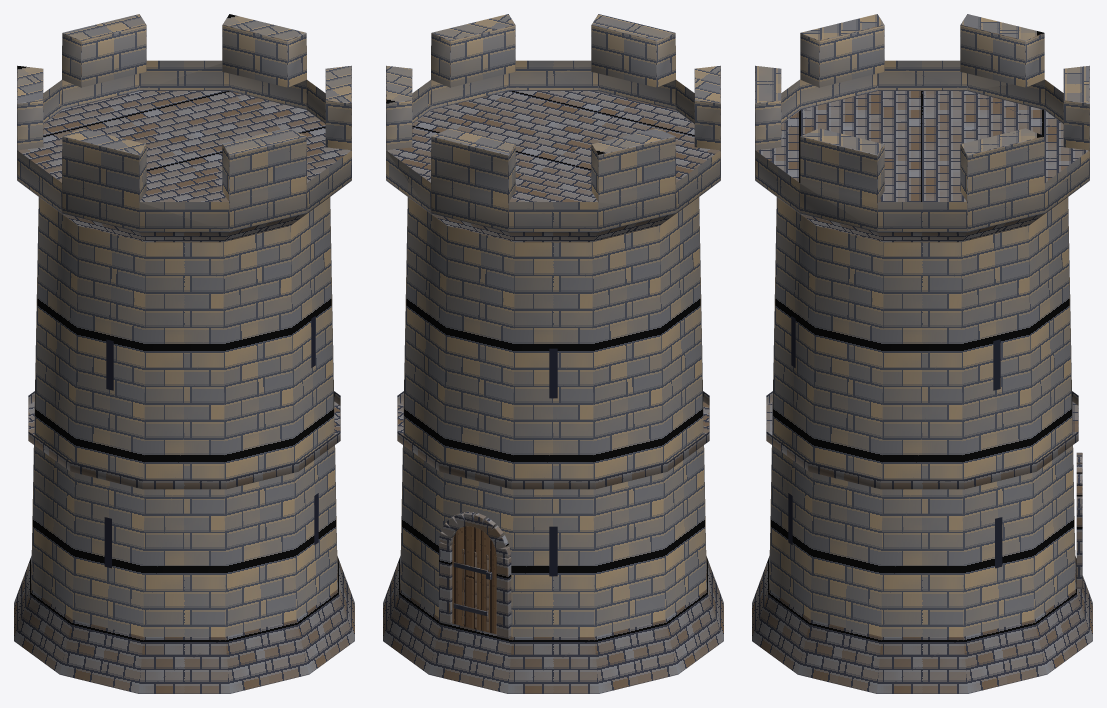
The model's file is town_wall_tower_2.glb.
The picture shows the model from 3 angles, left to right: view 1: azimuth 30°, elevation 25°; view 2: azimuth 150°, elevation 25°; view 3: azimuth 270°, elevation 25°; orthographic projection.
Parts seen in each view (by area): view 1: town_wall_tower_3; view 2: town_wall_tower_3; view 3: town_wall_tower_3.
Boxes of the visible parts, left/top/right/bottom form: town_wall_tower_3: left=14, top=14, right=354, bottom=693; town_wall_tower_3: left=383, top=14, right=723, bottom=693; town_wall_tower_3: left=752, top=14, right=1092, bottom=693.
Size of the model in its own units: 5.6 by 9.75 by 5.6.
5 materials, 5 textured.
